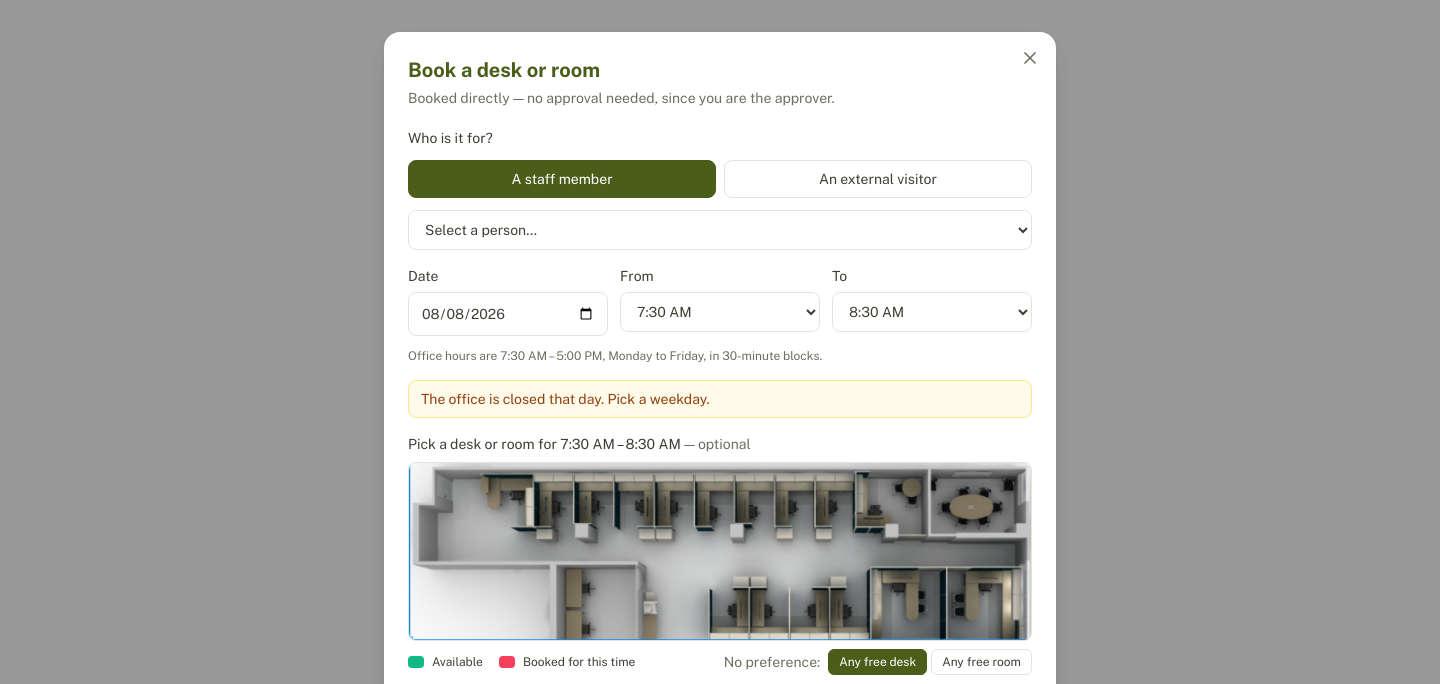
Test: the responsibility notice names what is being taken on
Click the button "An external visitor". click: (878, 179)
box: [724,160,1032,198]
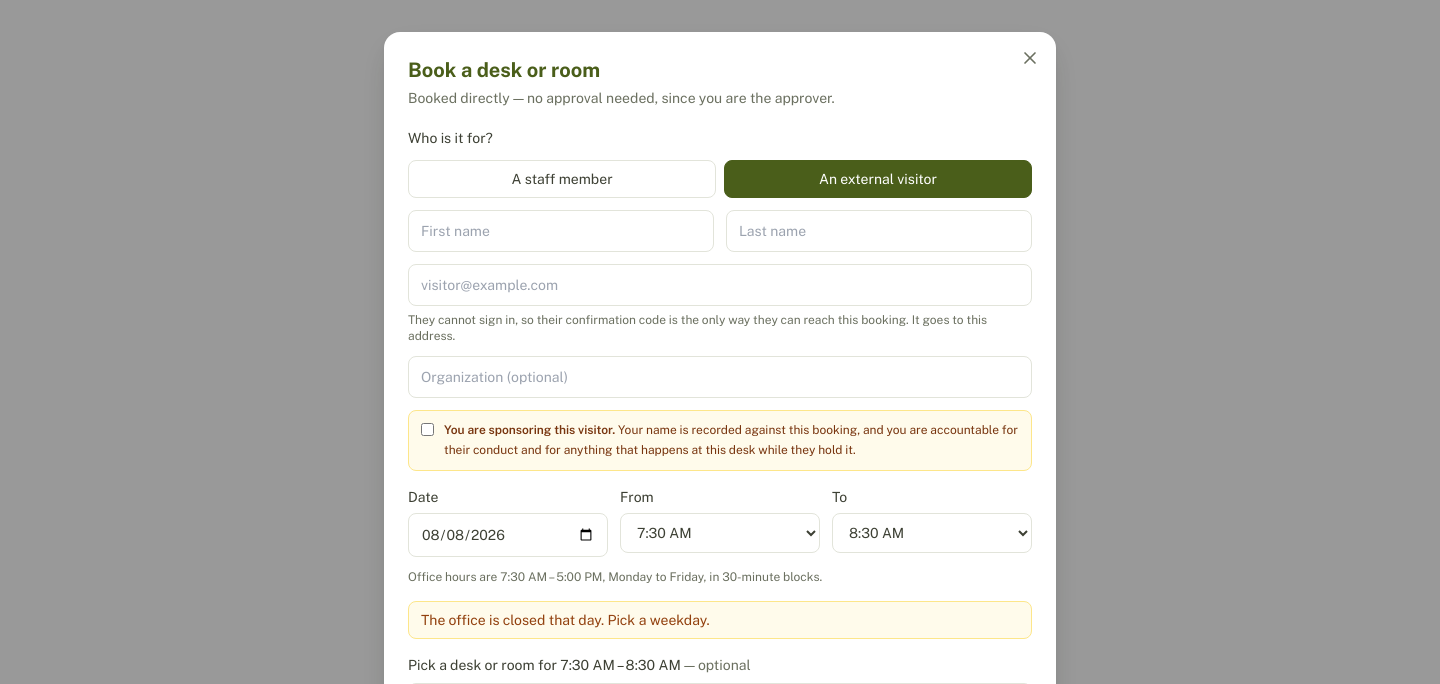
Check: the text "You are sponsoring this visitor." is shown, box [444,423,615,437]
Check: the text "accountable" is shown, box [444,423,1018,456]
